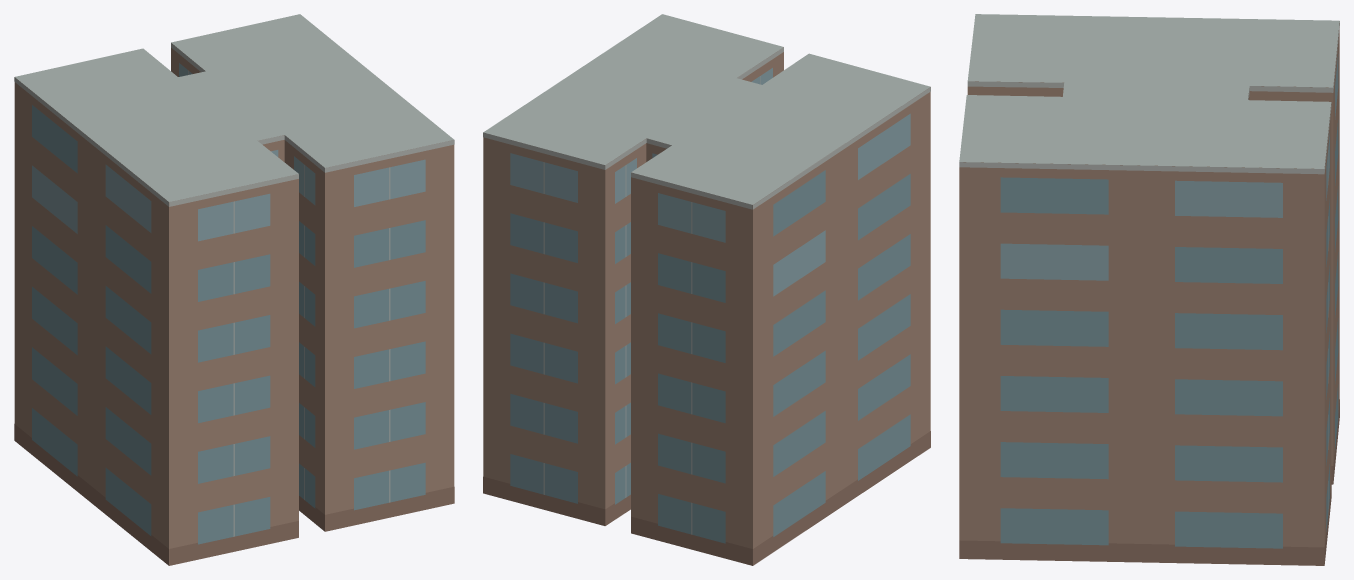
Rendered from survey-upis-32653453.glb.
3 views of the same model, side by side, from view 1: azimuth 30°, elevation 25°; view 2: azimuth 150°, elevation 25°; view 3: azimuth 270°, elevation 25° (orthographic). The views are drawn at different scales.
Parts seen in each view (by area): view 1: survey-upis-32653453.tmp; view 2: survey-upis-32653453.tmp; view 3: survey-upis-32653453.tmp.
Part boxes in pixels (box(x1,y1,x2,y2)): survey-upis-32653453.tmp: box(14, 14, 454, 565); survey-upis-32653453.tmp: box(483, 14, 930, 565); survey-upis-32653453.tmp: box(959, 14, 1339, 565).
Bounding box in the file's own units: 15.33 × 18.3 × 15.91.
